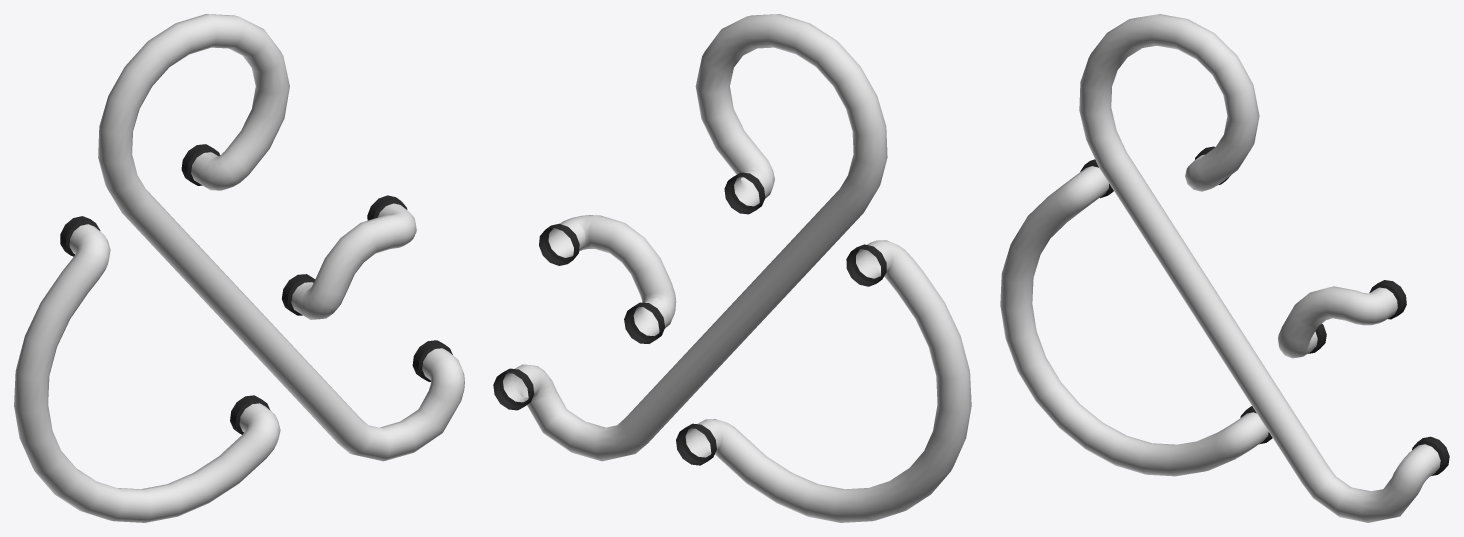
The model's file is LettersNeon01_S3.FBX.
3 renders of one model, left to right at view 1: azimuth 30°, elevation 25°; view 2: azimuth 150°, elevation 25°; view 3: azimuth 330°, elevation 25°, orthographic. The views are drawn at different scales.
Visible parts, largest first — view 1: LettersNeon01_S3; view 2: LettersNeon01_S3; view 3: LettersNeon01_S3.
Boxes of the visible parts, x1,y1,x2,y2 form: LettersNeon01_S3: (14,14,464,522); LettersNeon01_S3: (493,14,971,522); LettersNeon01_S3: (1000,14,1449,522).
Size of what is drawn, in the model's own units: 0.461 by 0.4772 by 0.054.
